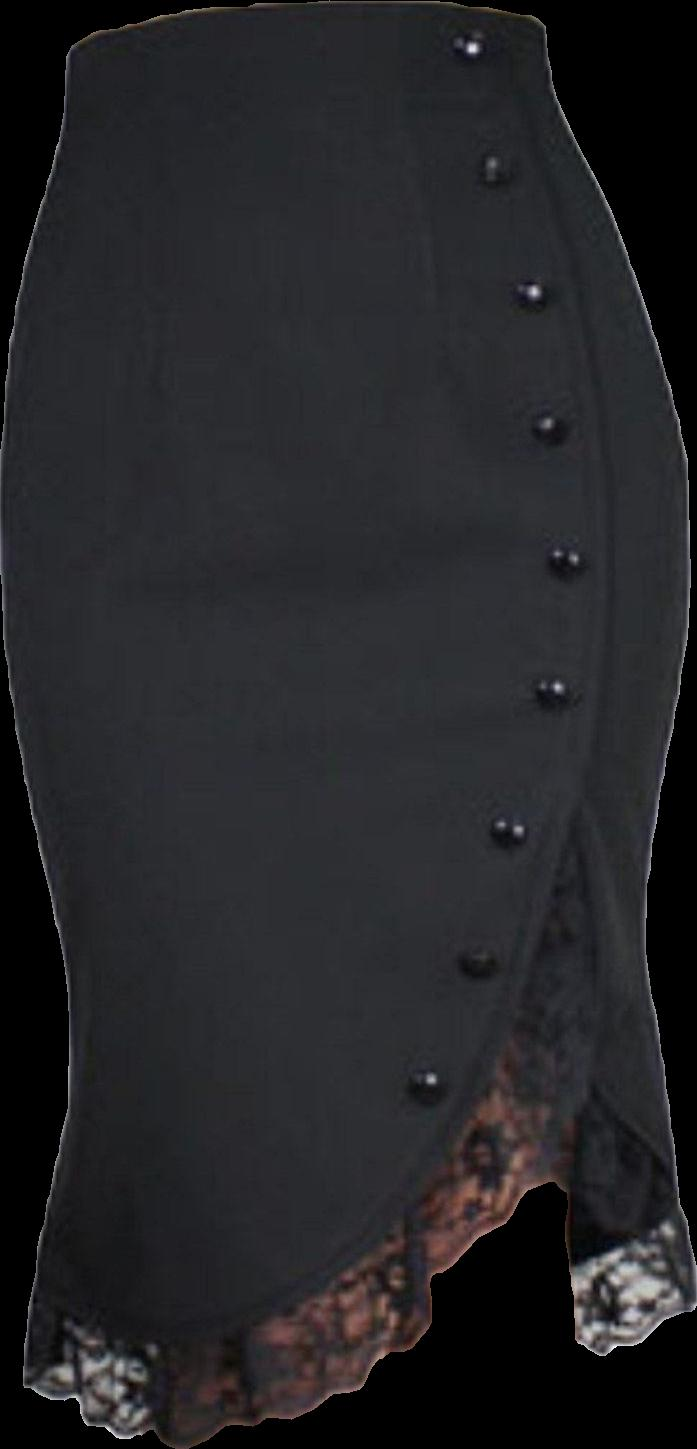Hemline: (18, 1076, 610, 1448), (567, 858, 696, 1360)
Waistline: (23, 24, 627, 1351), (64, 0, 552, 67)
